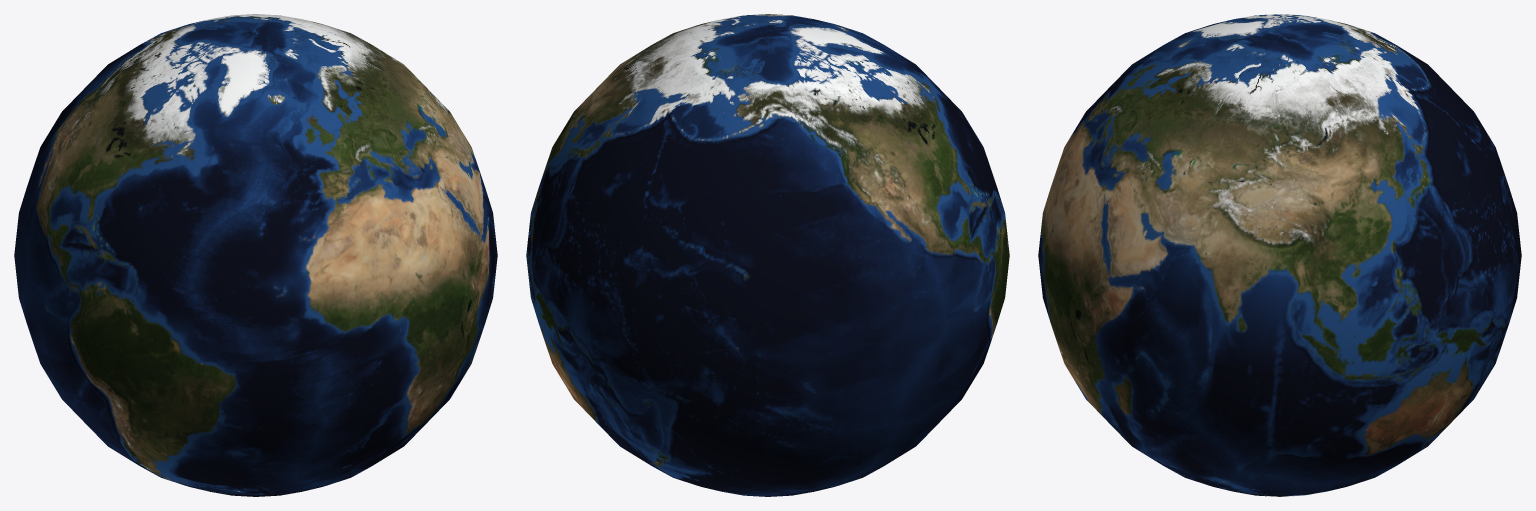
The model's file is earth.fbx.
3 views of the same model, side by side, from view 1: azimuth 30°, elevation 25°; view 2: azimuth 150°, elevation 25°; view 3: azimuth 270°, elevation 25° (orthographic).
Parts seen in each view (by area): view 1: Mesh1 sphere01_2_1 skp1DFA1 Model.001; view 2: Mesh1 sphere01_2_1 skp1DFA1 Model.001; view 3: Mesh1 sphere01_2_1 skp1DFA1 Model.001.
Boxes of the visible parts, x1=… form: Mesh1 sphere01_2_1 skp1DFA1 Model.001: x1=14, y1=14, x2=497, y2=496; Mesh1 sphere01_2_1 skp1DFA1 Model.001: x1=526, y1=14, x2=1009, y2=496; Mesh1 sphere01_2_1 skp1DFA1 Model.001: x1=1038, y1=14, x2=1521, y2=496.
Bounding box in the file's own units: 2 × 2 × 2.
Materials: 1 (1 with a texture image).
